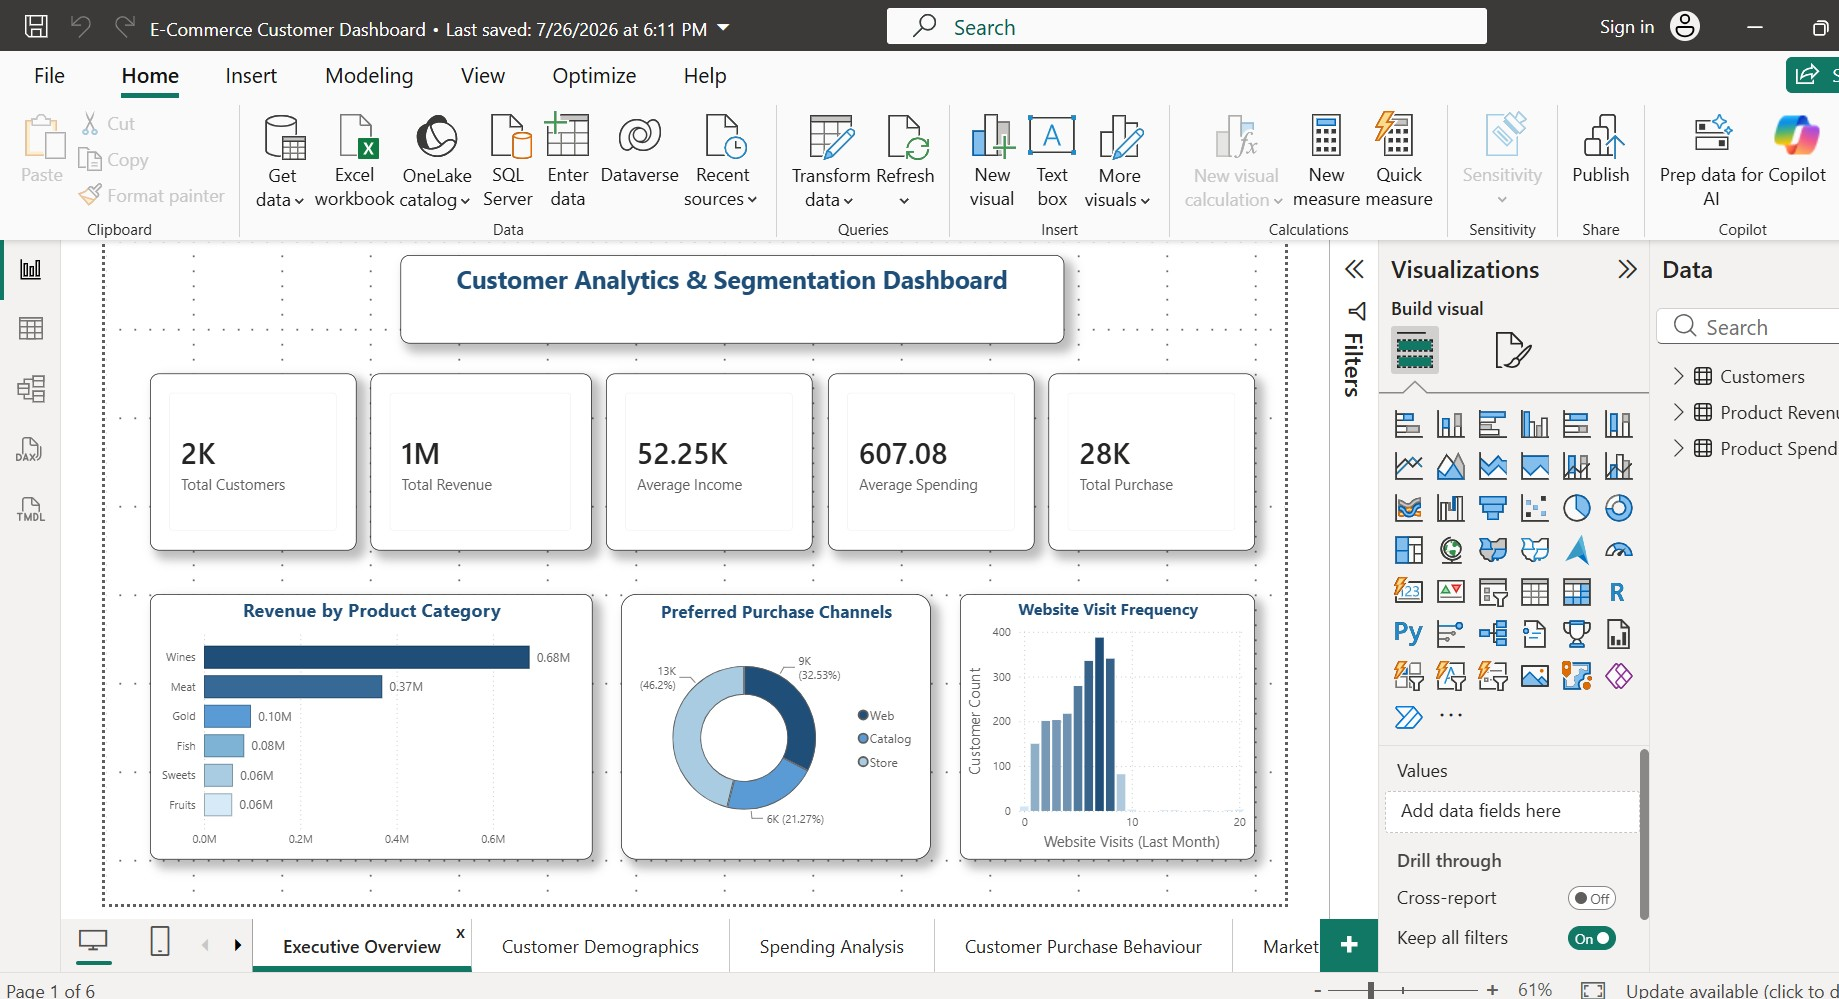

Layout of this report page (visuals, bound fields, positions):
{"tool":"powerbi","page":{"name":"Executive Overview","canvas":[1280,720],"ordinal":0},"visuals":[{"type":"textbox","box":[320,16,720,96],"z":0},{"type":"cardVisual","fields":{"Data":["Customers.Total Customers"]},"box":[48,144,224,192],"z":1000},{"type":"cardVisual","fields":{"Data":["Customers.Total Revenue"]},"box":[288,144,240,192],"z":2000},{"type":"cardVisual","fields":{"Data":["Customers.Average Income"]},"box":[544,144,224,192],"z":3000},{"type":"cardVisual","fields":{"Data":["Customers.Average Spending"]},"box":[784,144,224,192],"z":4000},{"type":"cardVisual","fields":{"Data":["Customers.Total Purchases KPI"]},"box":[1024,144,224,192],"z":5000},{"type":"clusteredBarChart","title":"Revenue by Product Category","fields":{"Category":["Product Revenue.Product Category"],"Y":["Sum(Product Revenue.Total Revenue)"]},"box":[48,384,480,288],"z":6000},{"type":"donutChart","title":"Preferred Purchase Channels","fields":{"Y":["Sum(Customers.NumWebPurchases)","Sum(Customers.NumCatalogPurchases)","Sum(Customers.NumStorePurchases)"]},"box":[560,384,336,288],"z":7000},{"type":"clusteredColumnChart","title":"Website Visit Frequency","fields":{"Category":["Customers.NumWebVisitsMonth"],"Y":["CountNonNull(Customers.ID)"]},"box":[928,384,320,288],"z":8000}]}

Visuals, with their boxes on the page's 1280x720 design canvas (x1, y1, x2, y2). These are canvas units, not pixel positions in the 1839x999 screenshot, which may show the page scaled, cropped or inside an application window:
textbox: (left=320, top=16, right=1040, bottom=112)
cardVisual - Customers.Total Customers: (left=48, top=144, right=272, bottom=336)
cardVisual - Customers.Total Revenue: (left=288, top=144, right=528, bottom=336)
cardVisual - Customers.Average Income: (left=544, top=144, right=768, bottom=336)
cardVisual - Customers.Average Spending: (left=784, top=144, right=1008, bottom=336)
cardVisual - Customers.Total Purchases KPI: (left=1024, top=144, right=1248, bottom=336)
"Revenue by Product Category" clusteredBarChart: (left=48, top=384, right=528, bottom=672)
"Preferred Purchase Channels" donutChart: (left=560, top=384, right=896, bottom=672)
"Website Visit Frequency" clusteredColumnChart: (left=928, top=384, right=1248, bottom=672)
